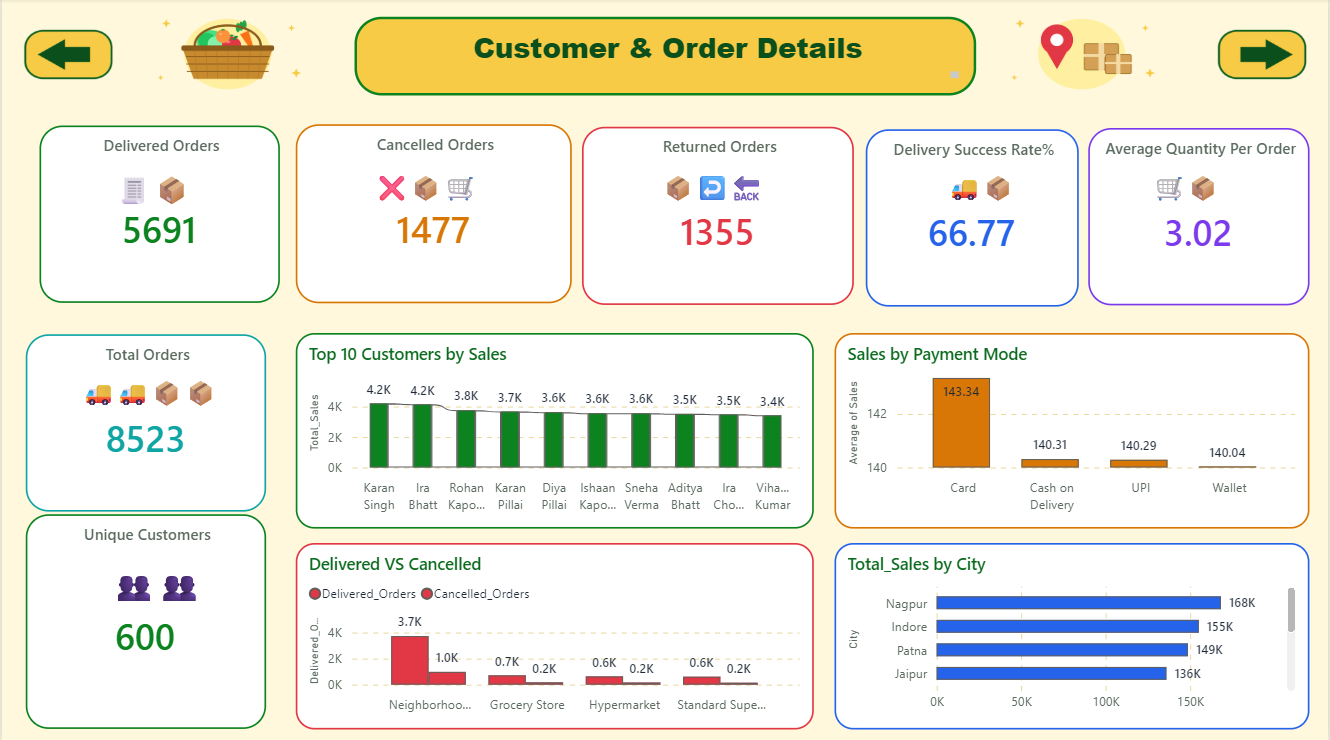

This screenshot's page, from the dashboard's own definition file:
{"tool":"powerbi","page":{"name":"Customer & Order Detail","canvas":[1280,720],"ordinal":5},"visuals":[{"type":"textbox","title":"Customer & Order Details","box":[340,18,600,76],"z":0},{"type":"image","box":[122,2,192,100],"z":1000},{"type":"image","box":[946,2,192,100],"z":2000},{"type":"cardVisual","title":"Delivered Orders","fields":{"Data":["blinkit_data_master.Delivered_Orders"]},"box":[36.7,123.5,232.3,171.2],"z":3000},{"type":"cardVisual","title":"Cancelled Orders","fields":{"Data":["blinkit_data_master.Cancelled_Orders"]},"box":[283.7,122.3,266.6,172.4],"z":4000},{"type":"cardVisual","title":"Returned Orders","fields":{"Data":["blinkit_data_master.Returned_Orders"]},"box":[559.2,124.3,262.8,172.2],"z":5000},{"type":"cardVisual","title":"Delivery Success Rate%","fields":{"Data":["blinkit_data_master.Delivery_Success_Rate_%"]},"box":[833.7,126.9,205.8,170.9],"z":6000},{"type":"cardVisual","title":"Average Quantity Per Order","fields":{"Data":["blinkit_data_master.Average_Quantity_per_Order"]},"box":[1048,126,214,171.2],"z":7000},{"type":"cardVisual","title":"Total Orders","fields":{"Data":["blinkit_data_master.Total_order"]},"box":[23.2,324.1,232.3,171.2],"z":8000},{"type":"cardVisual","title":"Unique Customers","fields":{"Data":["blinkit_data_master.Unique_Customer"]},"box":[23.3,498.4,231.7,207.1],"z":9000},{"type":"columnChart","title":"Top 10 Customers by Sales","fields":{"Category":["blinkit_data_master.Customer Name"],"Y":["blinkit_data_master.Total_Sales"]},"box":[283.5,323.6,499.7,189],"z":10000},{"type":"clusteredColumnChart","title":"Sales by Payment Mode","fields":{"Category":["blinkit_data_master.Payment Mode"],"Y":["Avg(blinkit_data_master.Sales)"]},"box":[803.9,323.6,458.3,189],"z":11000},{"type":"clusteredColumnChart","title":"Delivered VS Cancelled","fields":{"Y":["blinkit_data_master.Delivered_Orders","blinkit_data_master.Cancelled_Orders"],"Category":["blinkit_data_master.Outlet Type"]},"box":[283.5,525.6,499.7,179.9],"z":12000},{"type":"clusteredBarChart","fields":{"Category":["blinkit_data_master.City"],"Y":["blinkit_data_master.Total_Sales"]},"box":[804,526,458,180],"z":13000},{"type":"textbox","box":[36.7,161.4,218.9,75.8],"z":14000},{"type":"textbox","box":[306.9,161.4,205.4,108.8],"z":15000},{"type":"textbox","box":[568.6,161.4,234.8,137],"z":16000},{"type":"textbox","box":[856,161.4,177.3,137],"z":17000},{"type":"textbox","box":[1073.6,161.4,138.2,119.8],"z":18000},{"type":"textbox","box":[36.7,359.5,212.8,58.7],"z":19000},{"type":"textbox","box":[0,538,299.6,52.6],"z":20000},{"type":"image","box":[12,22,104,66],"z":21000},{"type":"image","box":[1164,22,104,66],"z":22000}]}

Visuals, with their boxes in screenshot pixels (x1, y1, x2, y2), scaled from the page's 1280x720 canvas onto the 1330x740 screenshot:
"Customer & Order Details" textbox: crop(353, 18, 977, 97)
image: crop(127, 2, 326, 105)
image: crop(983, 2, 1182, 105)
"Delivered Orders" cardVisual: crop(38, 127, 280, 303)
"Cancelled Orders" cardVisual: crop(295, 126, 572, 303)
"Returned Orders" cardVisual: crop(581, 128, 854, 305)
"Delivery Success Rate%" cardVisual: crop(866, 130, 1080, 306)
"Average Quantity Per Order" cardVisual: crop(1089, 130, 1311, 305)
"Total Orders" cardVisual: crop(24, 333, 265, 509)
"Unique Customers" cardVisual: crop(24, 512, 265, 725)
"Top 10 Customers by Sales" columnChart: crop(295, 333, 814, 527)
"Sales by Payment Mode" clusteredColumnChart: crop(835, 333, 1312, 527)
"Delivered VS Cancelled" clusteredColumnChart: crop(295, 540, 814, 725)
clusteredBarChart - blinkit_data_master.City x blinkit_data_master.Total_Sales: crop(835, 541, 1311, 726)
textbox: crop(38, 166, 266, 244)
textbox: crop(319, 166, 532, 278)
textbox: crop(591, 166, 835, 307)
textbox: crop(889, 166, 1074, 307)
textbox: crop(1116, 166, 1259, 289)
textbox: crop(38, 369, 259, 430)
textbox: crop(0, 553, 311, 607)
image: crop(12, 23, 121, 90)
image: crop(1209, 23, 1318, 90)
